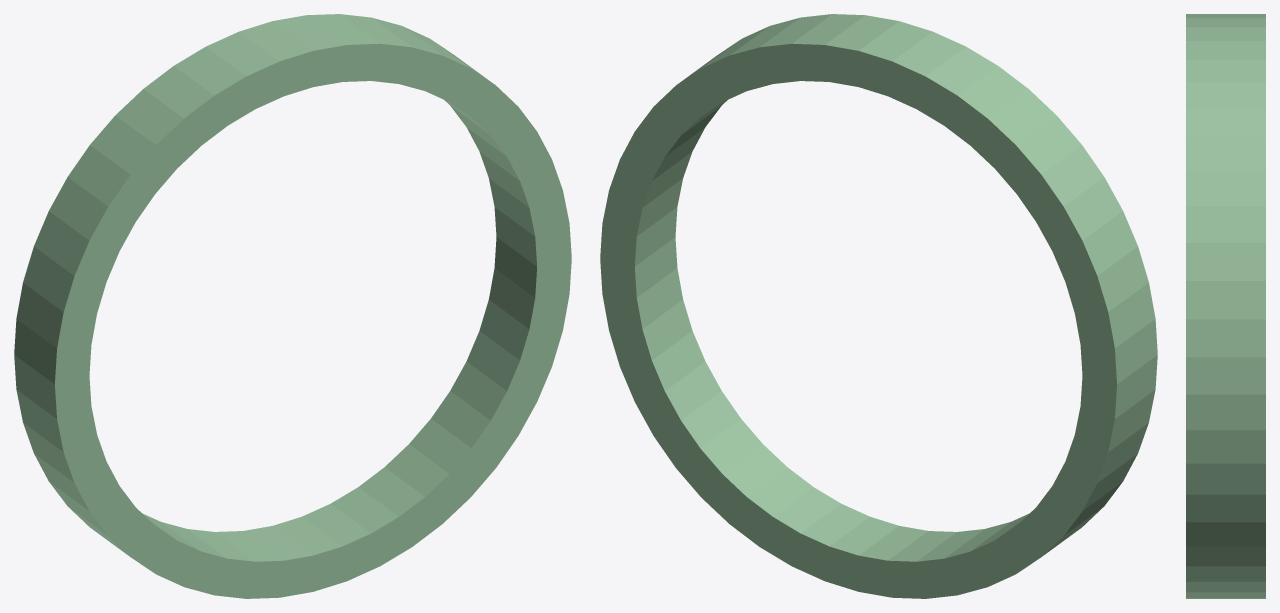
3 views of the same model, side by side, from view 1: azimuth 30°, elevation 25°; view 2: azimuth 150°, elevation 25°; view 3: azimuth 270°, elevation 25° (orthographic).
Parts seen in each view (by area): view 1: geometry_0; view 2: geometry_0; view 3: geometry_0.
Part boxes in pixels (x1,y1,x2,y2): geometry_0: [14, 14, 571, 598]; geometry_0: [600, 14, 1157, 598]; geometry_0: [1186, 14, 1265, 598].
Bounding box in the file's own units: 44 × 44 × 6.
